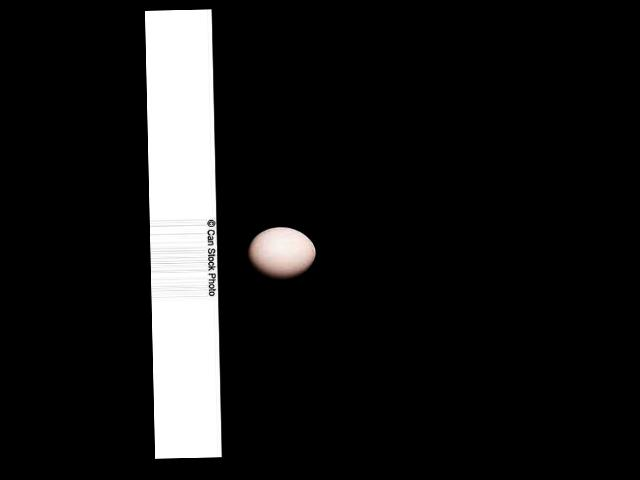egg: (245, 226, 315, 280)
